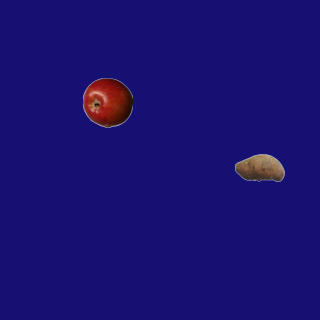Apple Braeburn: (82, 77, 132, 127)
Potato Sweet: (234, 142, 284, 192)
